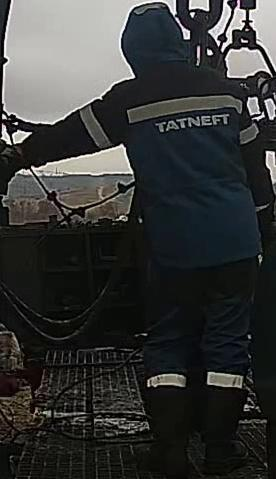vest: (94, 68, 266, 263)
